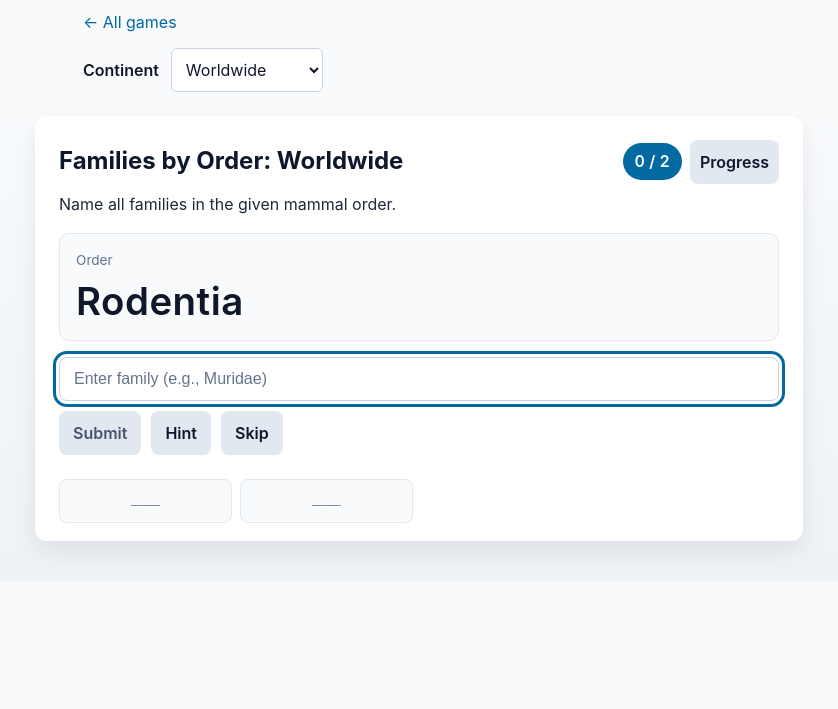
it: families by order cancels pending completion when changing continent
Type "Cricetidae" into the field labelled "family" at (419, 379), box [59, 357, 779, 401]
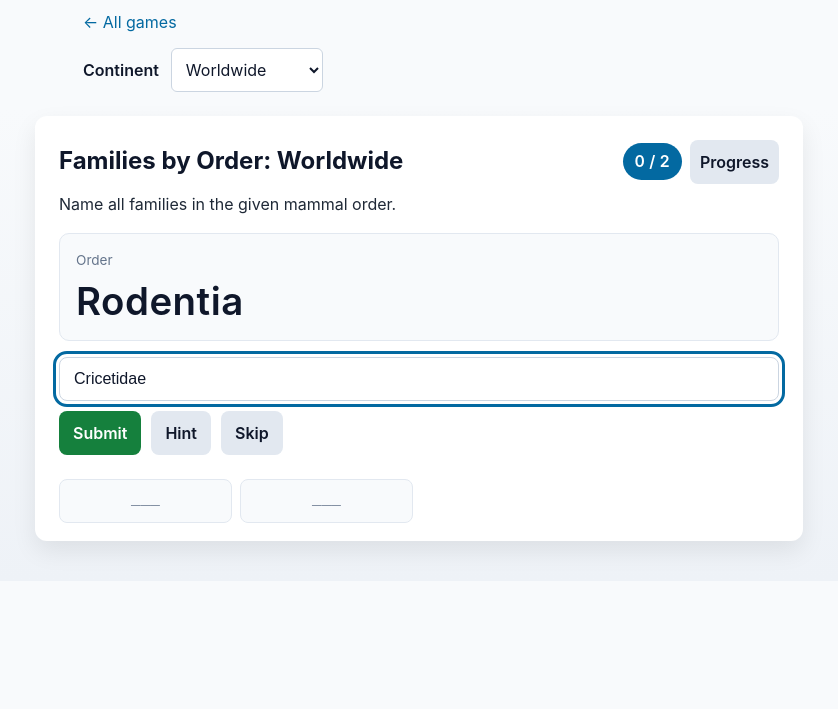
Click the button "Submit" at (100, 433), box [59, 411, 141, 455]
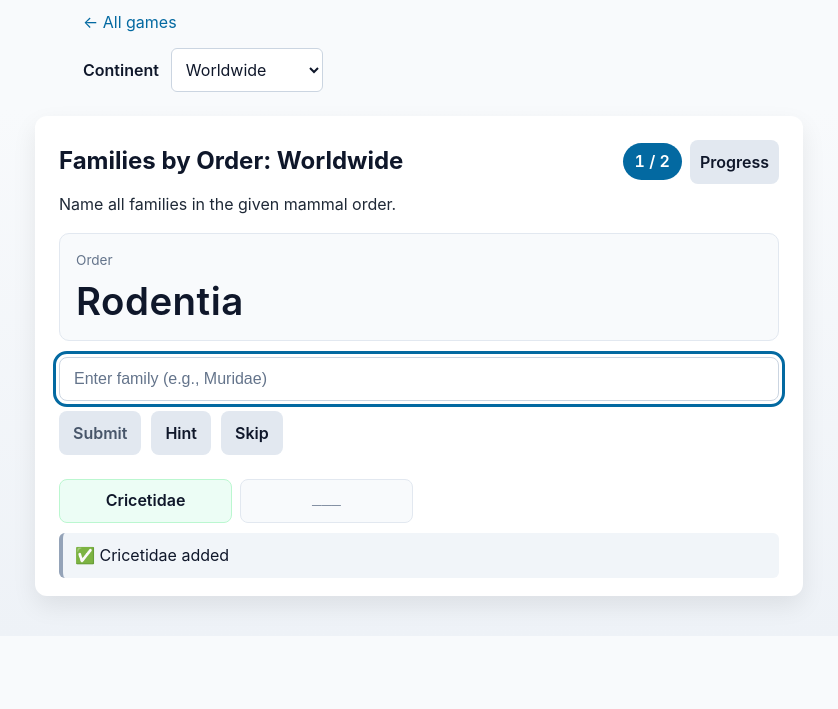
Type "Muridae" into the field labelled "family" at (419, 379), box [59, 357, 779, 401]
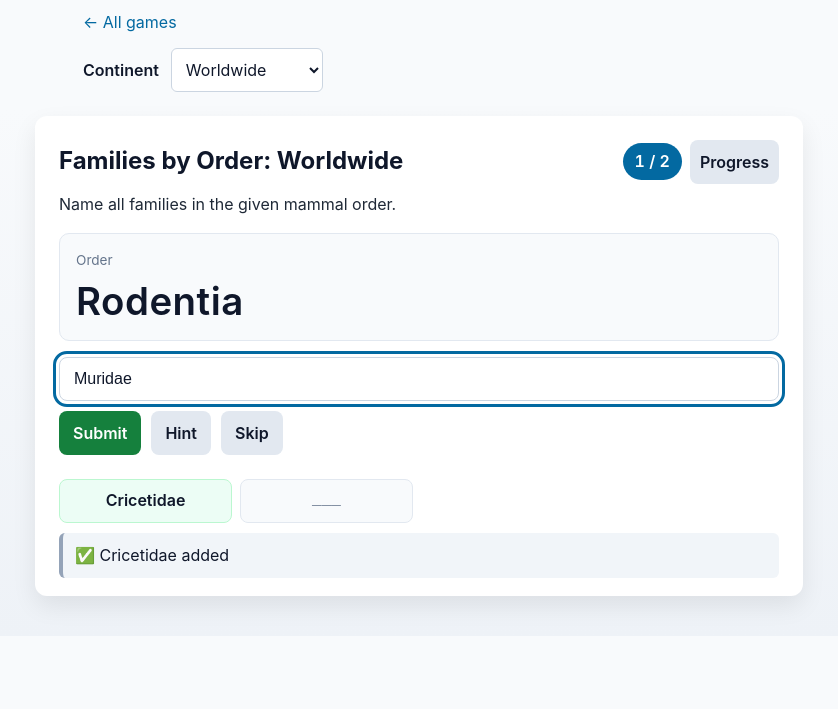
Click the button "Submit" at (100, 433), box [59, 411, 141, 455]
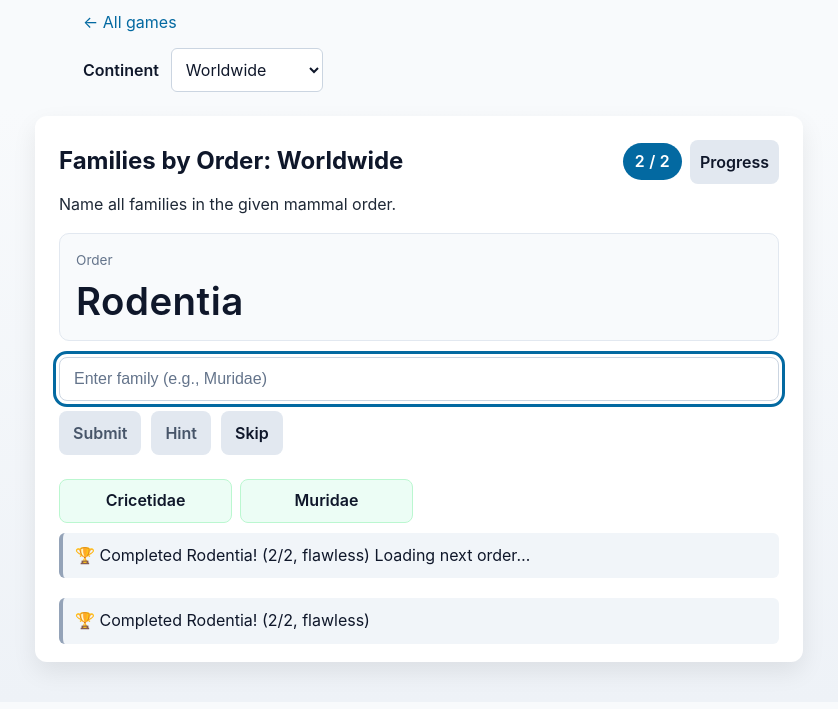
Select "North America" in the dropdown labelled "Continent" at (247, 70), box [171, 48, 323, 92]
Wait 800 ms
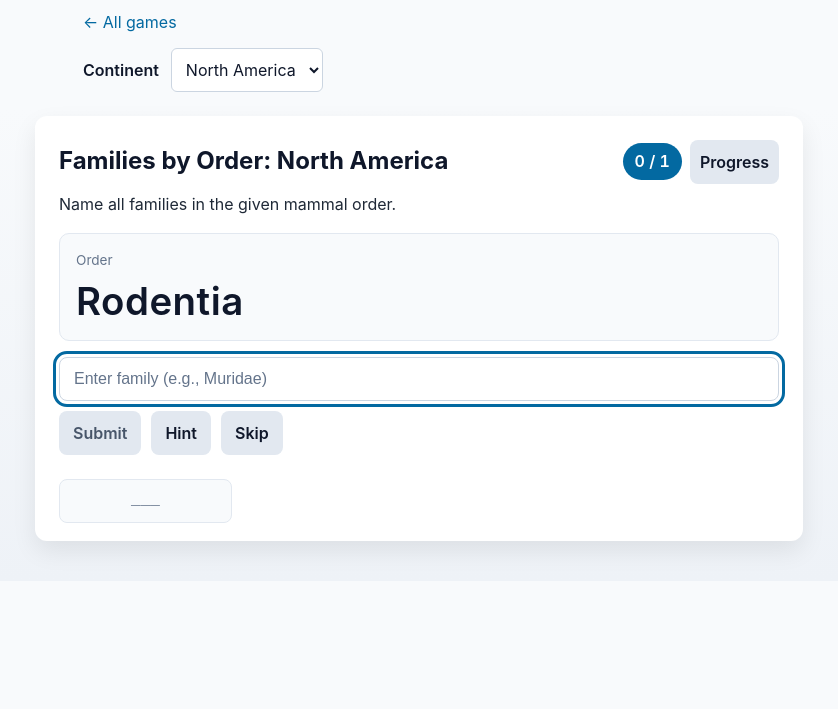
expect the text "Rodentia" is shown: met, box [76, 278, 244, 324]
expect the text "0 / 1" is shown: met, box [622, 143, 682, 180]
